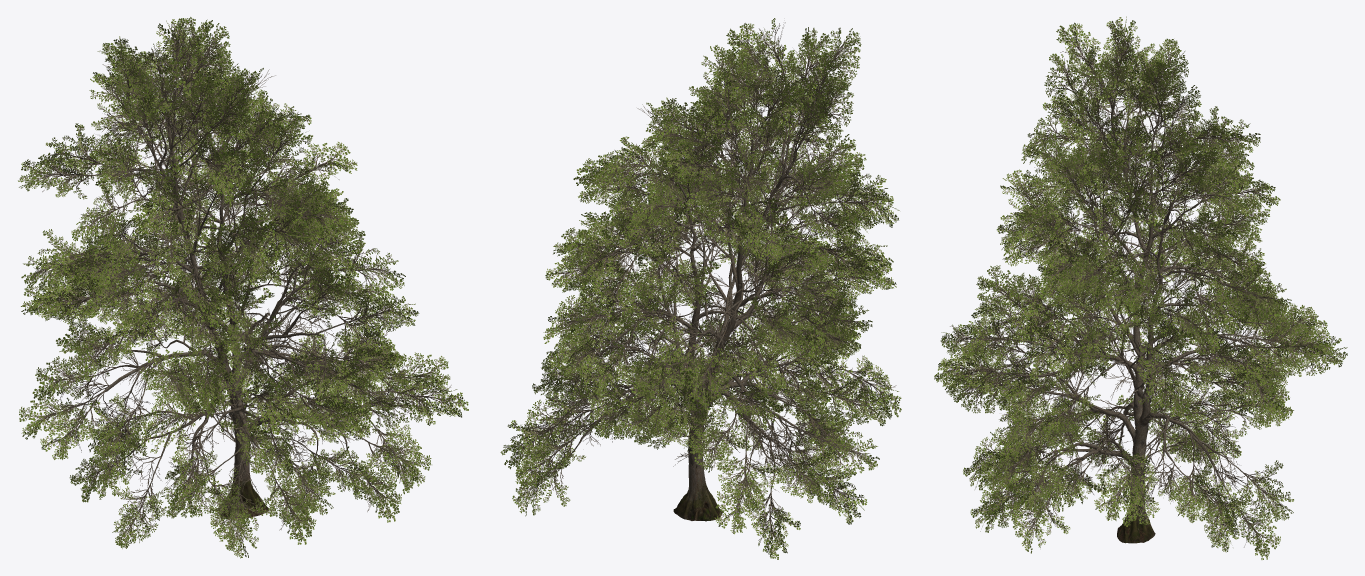
File: SM_BlackAlder_Field_01_PP_LOD3.gltf
The picture shows the model from 3 angles, left to right: view 1: azimuth 30°, elevation 25°; view 2: azimuth 150°, elevation 25°; view 3: azimuth 270°, elevation 25°; orthographic projection. The views are drawn at different scales.
Parts seen in each view (by area): view 1: SM_BlackAlder_Field_01_PP; view 2: SM_BlackAlder_Field_01_PP; view 3: SM_BlackAlder_Field_01_PP.
Boxes of the visible parts, x1,y1,x2,y2 form: SM_BlackAlder_Field_01_PP: (18,17,468,558); SM_BlackAlder_Field_01_PP: (500,18,901,559); SM_BlackAlder_Field_01_PP: (934,16,1347,559).
Size of the model in its own units: 11.97 by 16.06 by 12.81.
Materials: 4 (4 with a texture image).
